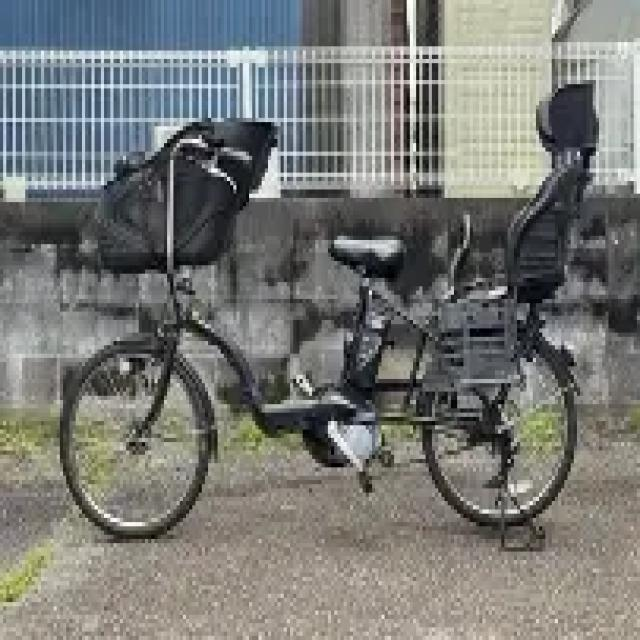battery: (338, 312, 388, 405)
childseat: (434, 78, 608, 410), (73, 117, 274, 281)
